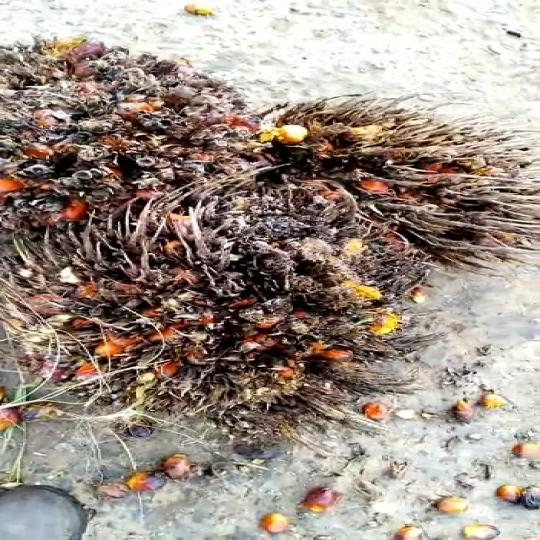terlalu masak: (0, 189, 416, 449), (216, 90, 540, 277)
